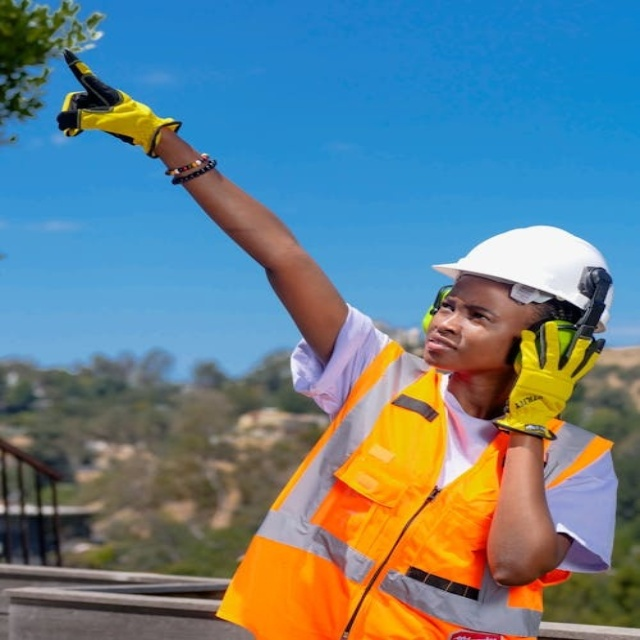Guantes: (491, 318, 602, 442), (55, 52, 182, 158)
Sin_gafas: (435, 291, 511, 327)
Sin_mascara: (422, 328, 474, 368)
